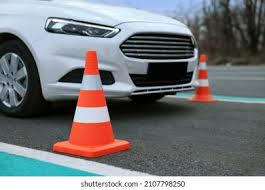car: (1, 1, 199, 116)
cone: (51, 50, 129, 157), (193, 53, 218, 105)
